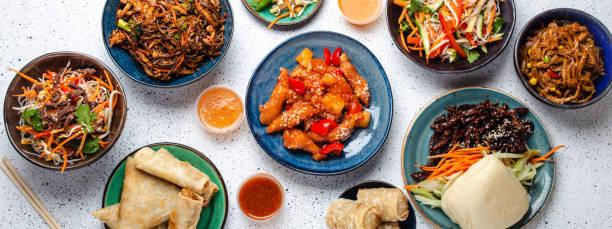Braised Crucian Carp: (400, 86, 555, 227), (245, 30, 392, 177), (1, 52, 126, 172), (101, 0, 230, 88), (99, 141, 224, 228), (385, 0, 515, 78), (513, 7, 609, 110)
